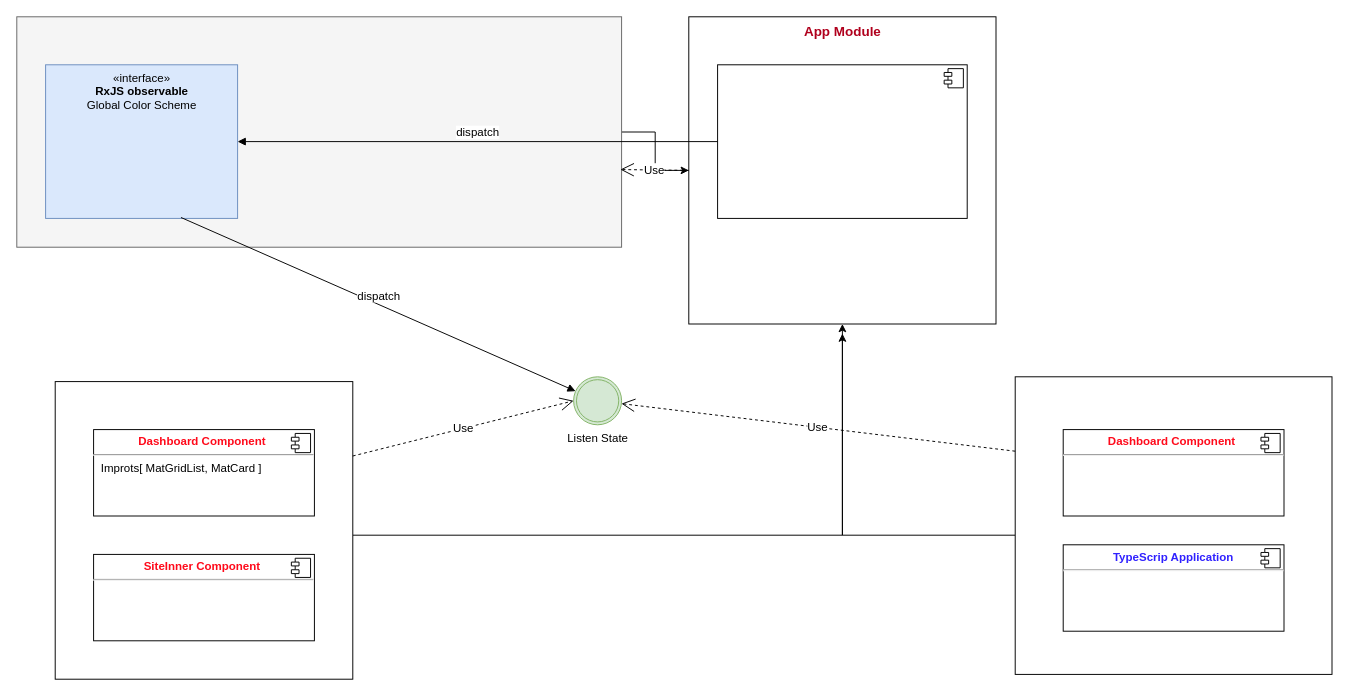
The diagram is 1349 pixels wide and 696 high, and some of its shapes have lost their labels. Each missing label, with the box of its shape:
App Component Improts[ MatTollbar, MatSidenav ]: (717, 64, 967, 218)
Dasboard Module: (54, 381, 353, 679)
Drawer App Module: (1014, 376, 1332, 674)
Global State Managment: (16, 16, 622, 247)
